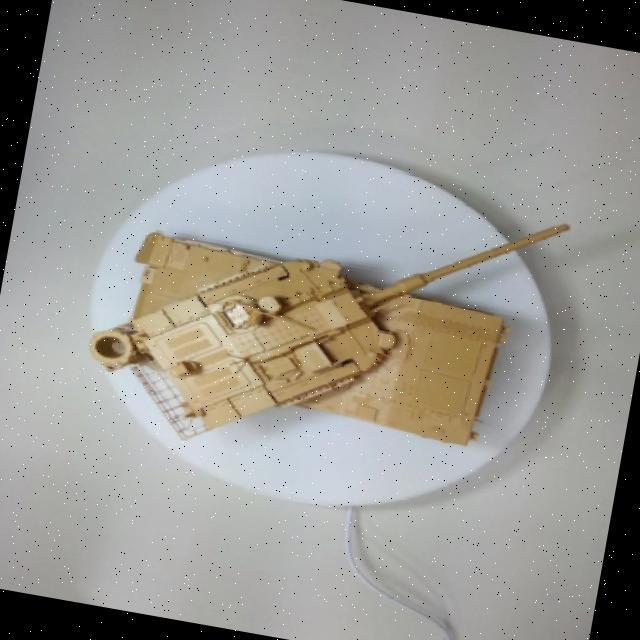korea tank: (46, 113, 634, 544)
